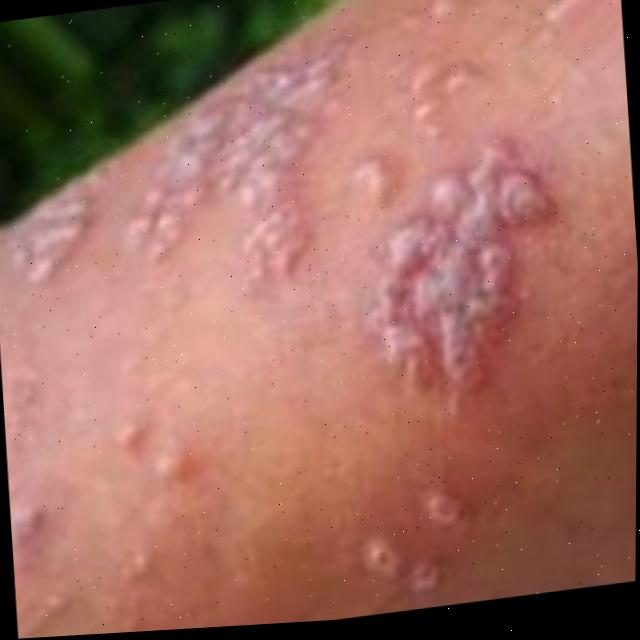Shingles: (0, 32, 577, 437), (355, 482, 467, 604)
